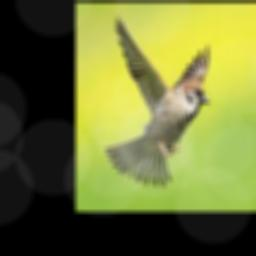Sparrow: (105, 13, 210, 187)
